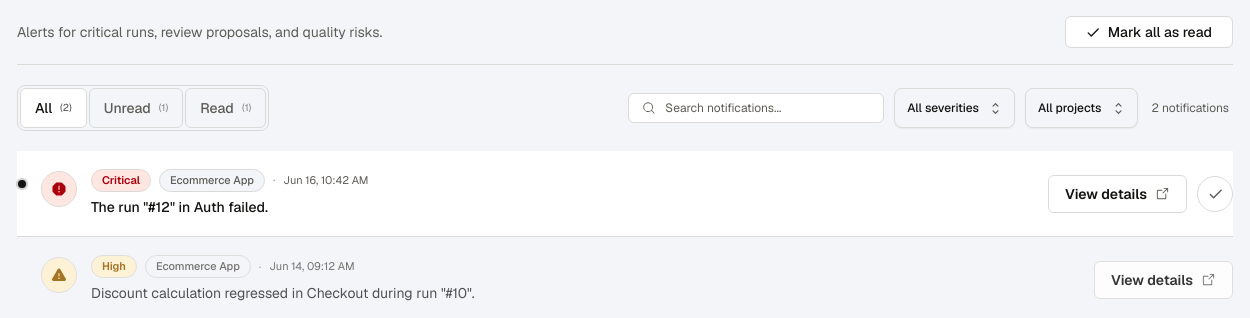
NotificationsPage › allows marking all notifications as read
Click the button "Mark all as read".
click(1149, 32)  # box [1065,16,1233,48]
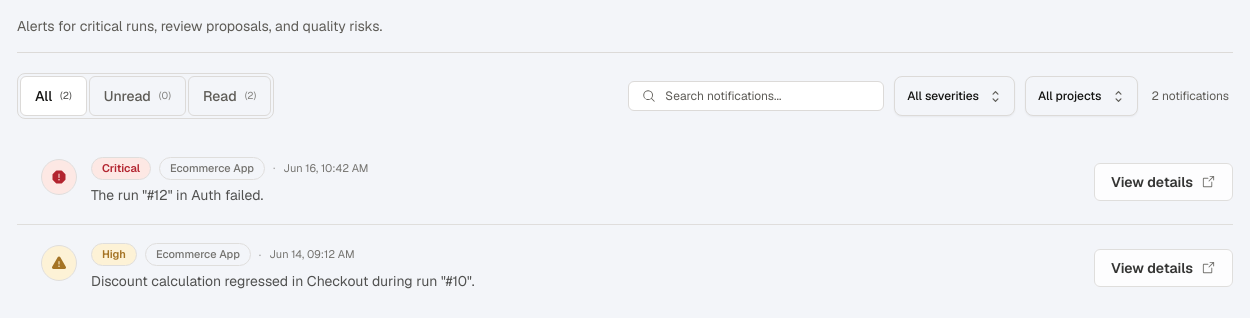
Expected: the button "Mark all as read" is gone
